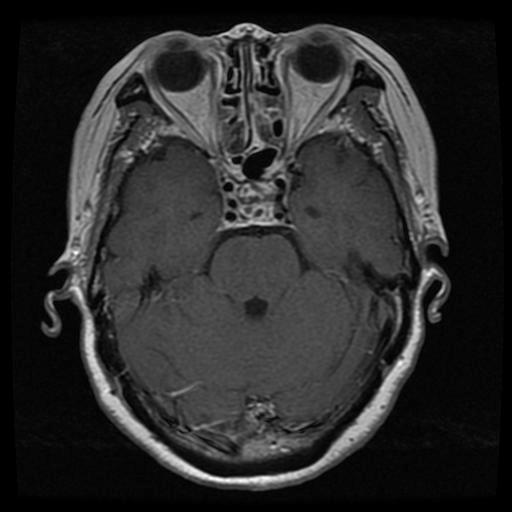Tumour-Pituitary: (212, 165, 300, 234)
